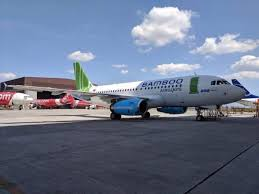maybay_dansu: (65, 65, 256, 126)
